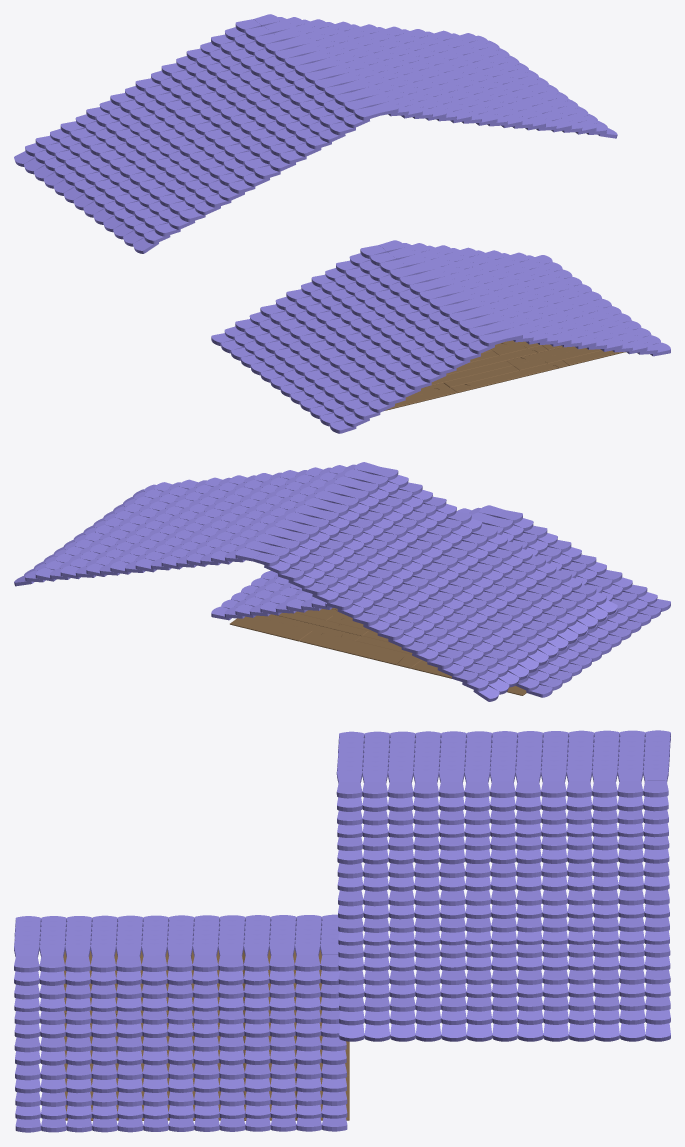
Rendered from House_roof.glb.
3 views of the same model, one above another, from view 1: azimuth 30°, elevation 25°; view 2: azimuth 150°, elevation 25°; view 3: azimuth 270°, elevation 25° (orthographic). The views are drawn at different scales.
Visible parts, largest first — view 1: House_roof; view 2: House_roof; view 3: House_roof.
Boxes of the visible parts, x1=… form: House_roof: x1=14, y1=14, x2=670, y2=433; House_roof: x1=14, y1=462, x2=670, y2=701; House_roof: x1=14, y1=730, x2=670, y2=1132.
Size of the model in its own units: 55.42 by 21.18 by 50.77.
